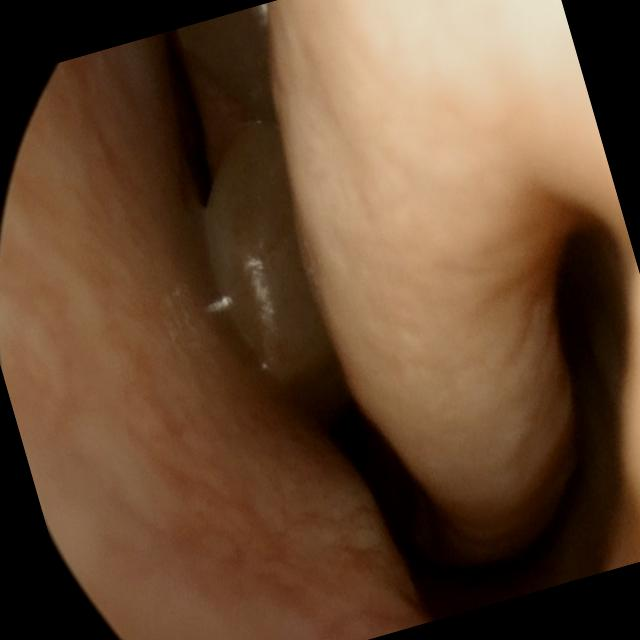OPENING: (279, 379, 335, 562)
POLYPS: (200, 150, 321, 377), (162, 37, 263, 161)
